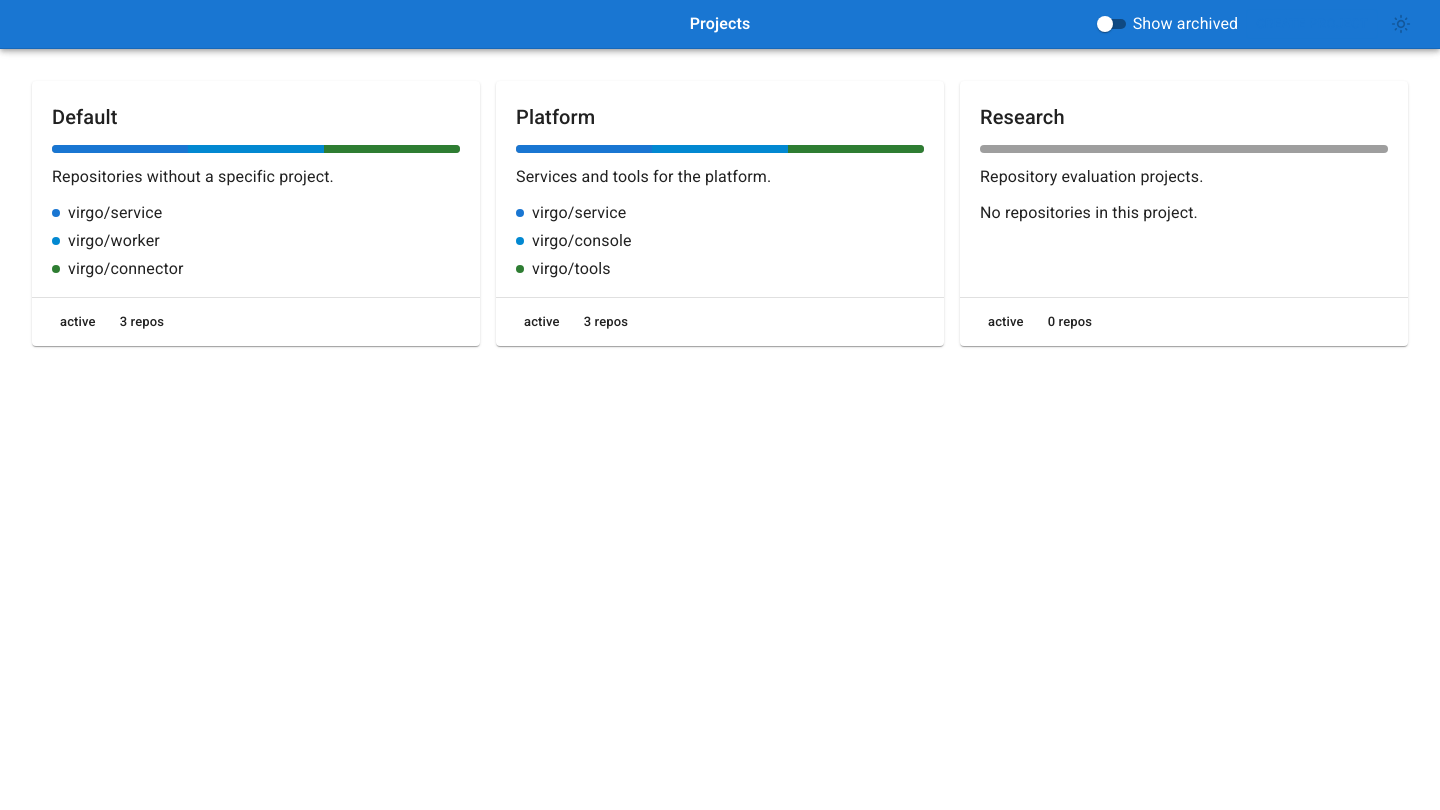
Test: ProjectsScreen closes the dialog without adding a project when creation is submitted
This screenshot has width=1440, height=810.
Press Tab
Press Tab
Press Enter
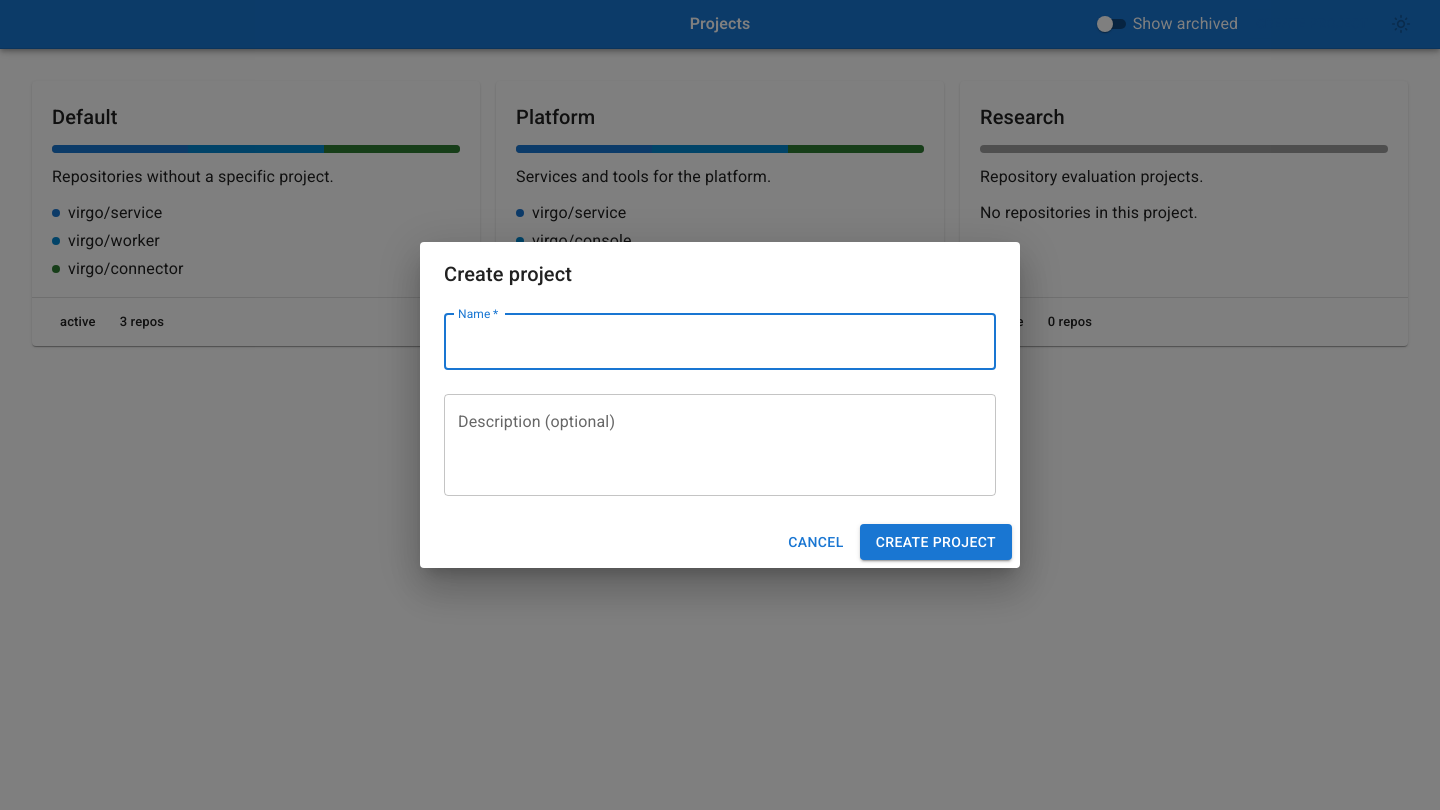
In the field labelled "Name *": (720, 342) [444,314,996,370], type "Operations"
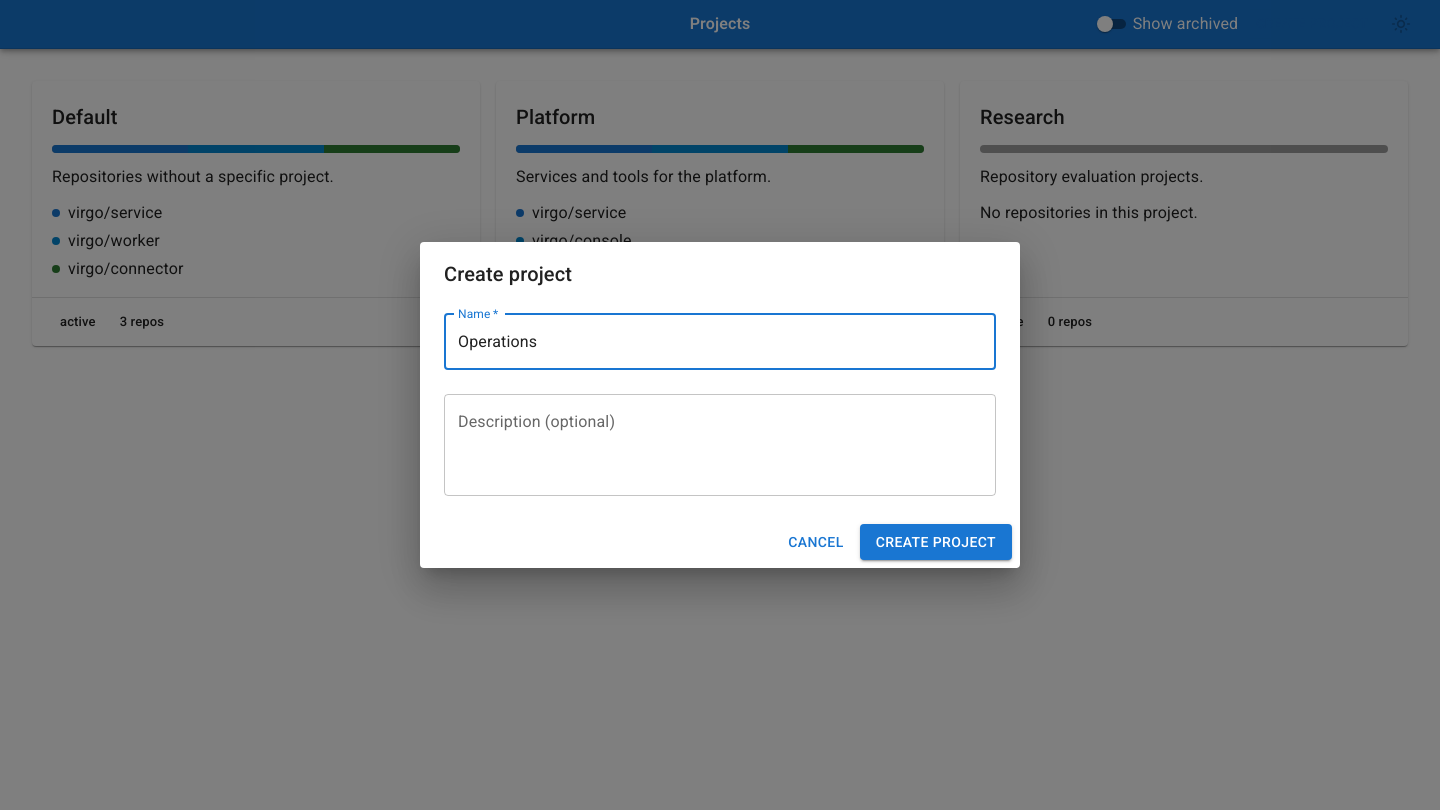
Click the button "Create project": (936, 542) [860,524,1012,560]
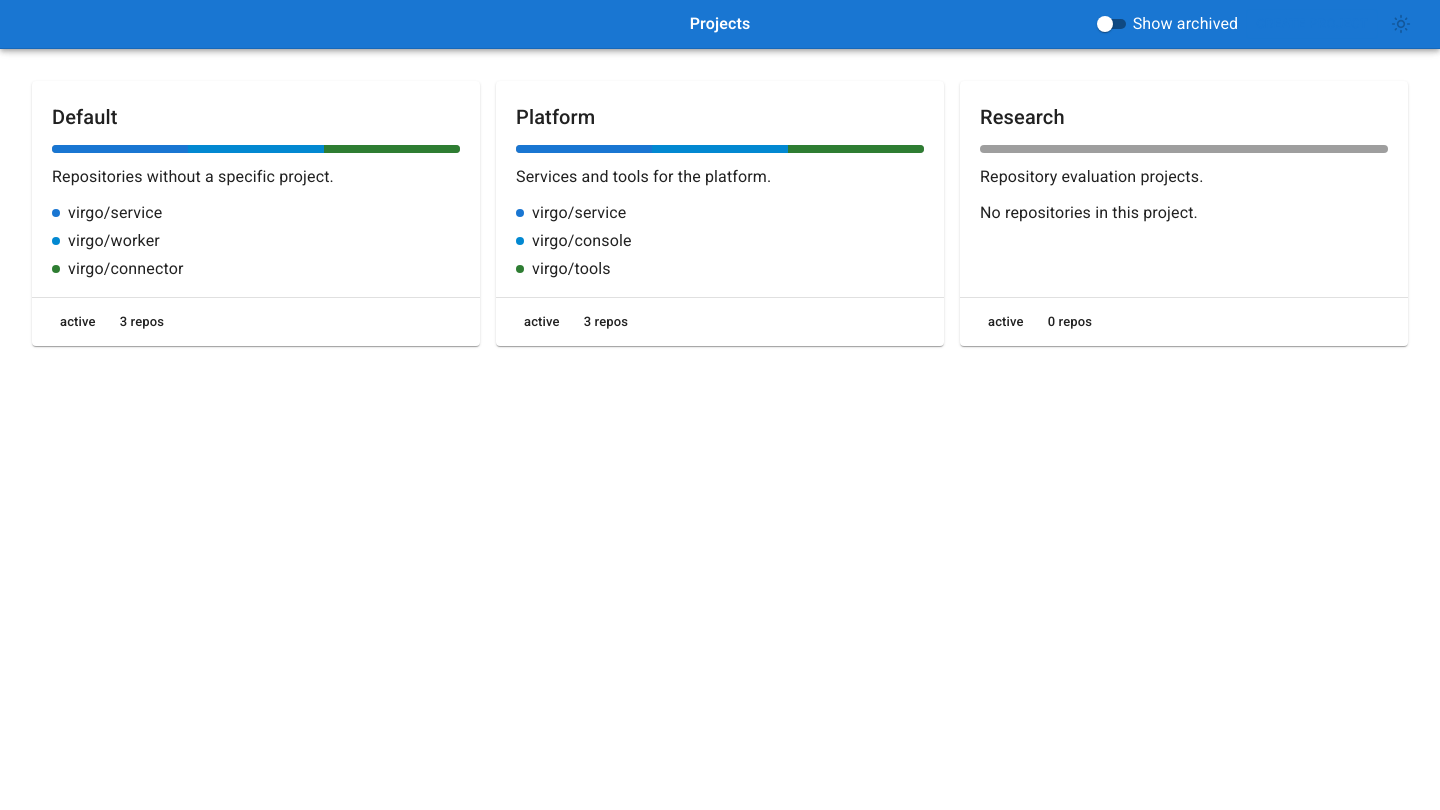
Expected: the dialog is gone
